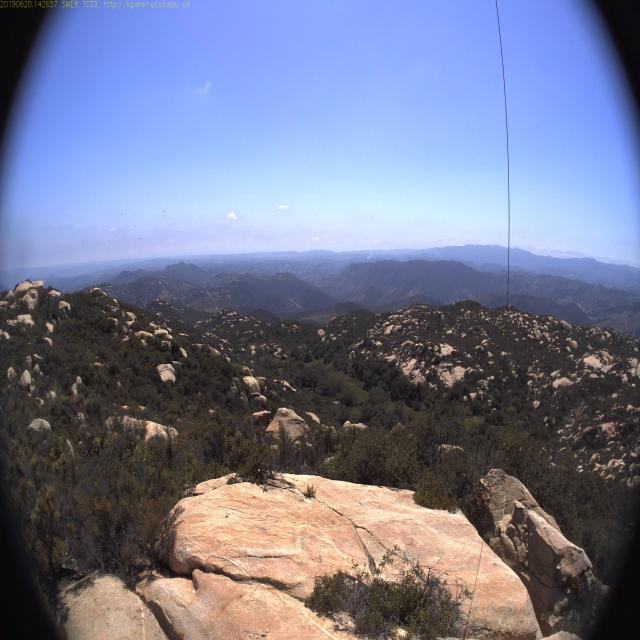smoke: (366, 249, 374, 261)
